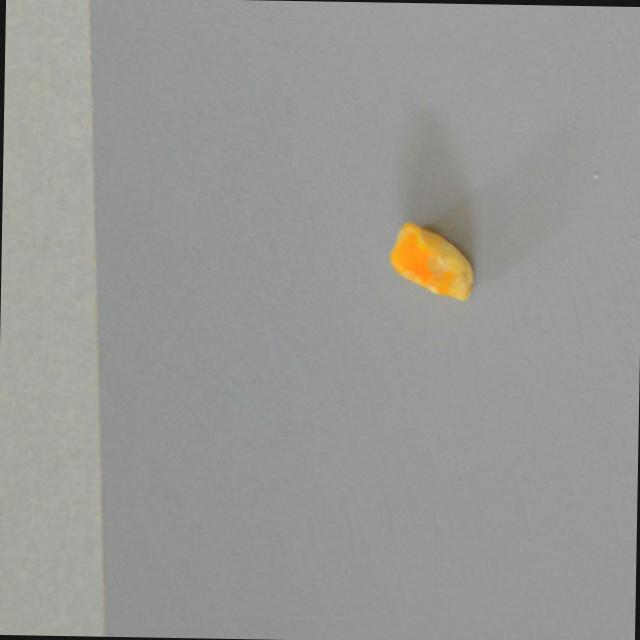pelicula: (386, 219, 477, 300)
